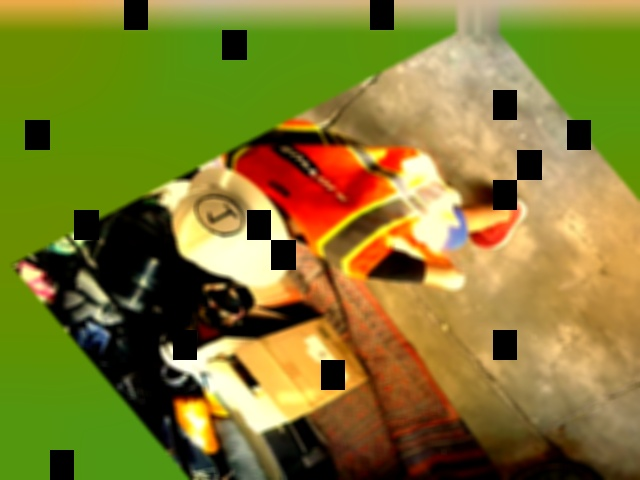one: (186, 187, 251, 241)
